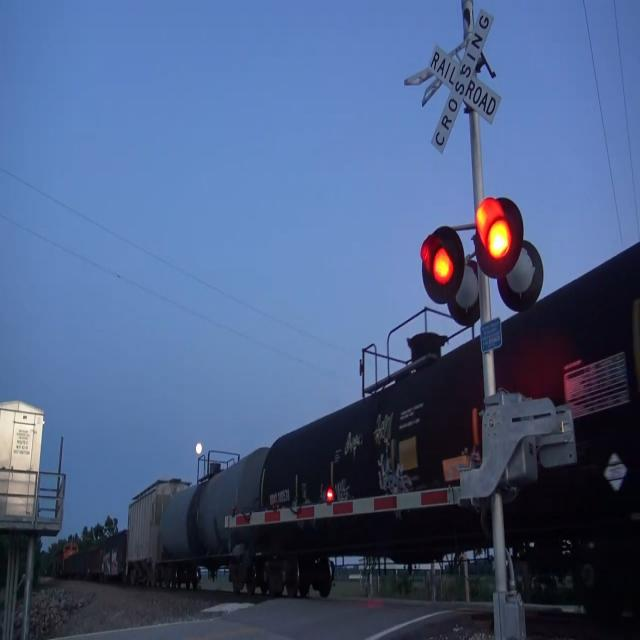tank: (252, 235, 640, 609), (152, 440, 270, 605)
